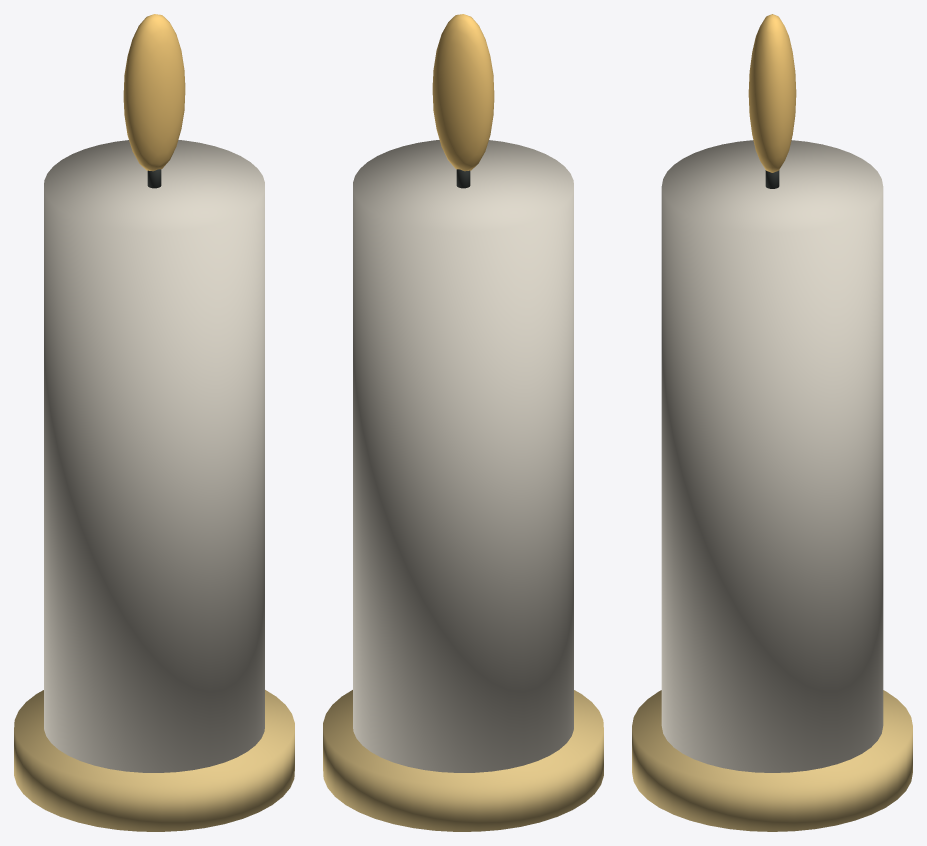
Rendered from candle-single.glb.
3 views of the same model, side by side, from view 1: azimuth 30°, elevation 25°; view 2: azimuth 150°, elevation 25°; view 3: azimuth 270°, elevation 25° (orthographic).
Parts seen in each view (by area): view 1: wax-0, base-1, flame-3; view 2: wax-0, base-1, flame-3; view 3: wax-0, base-1, flame-3.
Boxes of the visible parts, <box> form: wax-0: <box>44,140,264,772</box>; base-1: <box>14,690,294,831</box>; flame-3: <box>123,14,185,171</box>; wax-0: <box>353,140,573,772</box>; base-1: <box>323,690,603,831</box>; flame-3: <box>432,14,494,171</box>; wax-0: <box>661,140,883,772</box>; base-1: <box>632,690,912,831</box>; flame-3: <box>748,14,796,172</box>.
Size of the model in its own units: 0.33 by 0.982 by 0.33.
